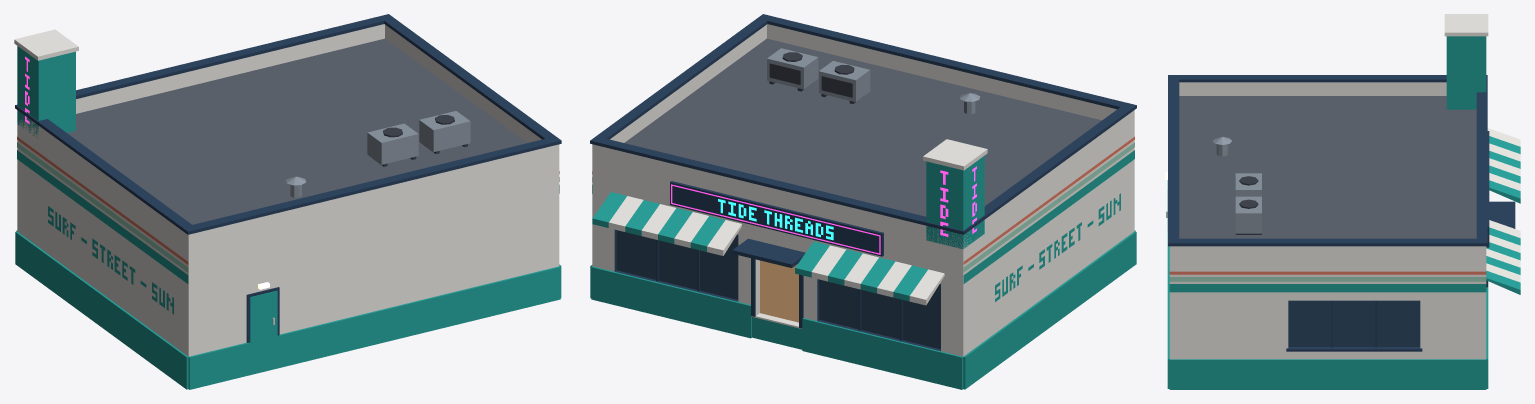
File: clothing_store.glb
3 views of the same model, side by side, from view 1: azimuth 30°, elevation 25°; view 2: azimuth 150°, elevation 25°; view 3: azimuth 270°, elevation 25° (orthographic). The views are drawn at different scales.
Parts seen in each view (by area): view 1: Building, Building_Detail; view 2: Building, Building_Detail, Building_Glass, Building_Neon; view 3: Building, Building_Detail, Building_Glass.
Part boxes in pixels (x1,y1,x2,y2): Building: [14, 14, 561, 389]; Building_Detail: [17, 111, 559, 314]; Building: [590, 14, 1136, 389]; Building_Detail: [592, 48, 1134, 305]; Building_Glass: [616, 230, 940, 349]; Building_Neon: [671, 166, 976, 254]; Building: [1165, 14, 1488, 389]; Building_Detail: [1169, 128, 1520, 294]; Building_Glass: [1288, 300, 1420, 346].
Size of the model in its own units: 15.16 by 8.66 by 13.46.
